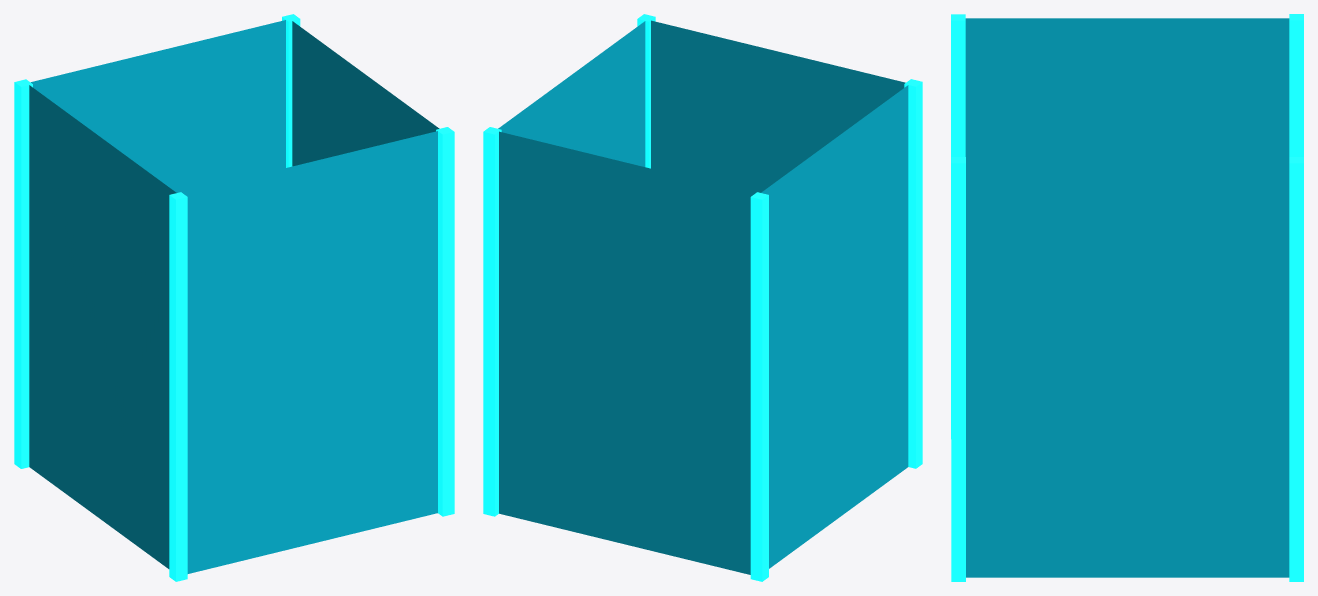
File: elevador.fbx
3 renders of one model, left to right at view 1: azimuth 30°, elevation 25°; view 2: azimuth 150°, elevation 25°; view 3: azimuth 270°, elevation 25°, orthographic. The views are drawn at different scales.
Parts seen in each view (by area): view 1: Cube, borde3, borde2, borde4, borde1; view 2: Cube, borde4, borde1, borde3, borde2; view 3: Cube, borde1, borde2, borde3, borde4.
Boxes of the visible parts, box(x1,y1,x2,y2) form: Cube: box(29, 20, 439, 573); borde3: box(169, 192, 187, 581); borde2: box(436, 127, 454, 516); borde4: box(14, 79, 32, 468); borde1: box(282, 14, 300, 167); Cube: box(498, 20, 908, 574); borde4: box(750, 192, 768, 581); borde1: box(483, 127, 501, 516); borde3: box(904, 79, 922, 468); borde2: box(637, 14, 655, 168); Cube: box(965, 18, 1289, 577); borde1: box(1289, 157, 1303, 581); borde2: box(951, 157, 965, 581); borde3: box(951, 14, 965, 438); borde4: box(1289, 14, 1303, 156).
Size of the model in its own units: 382 by 500 by 382.
